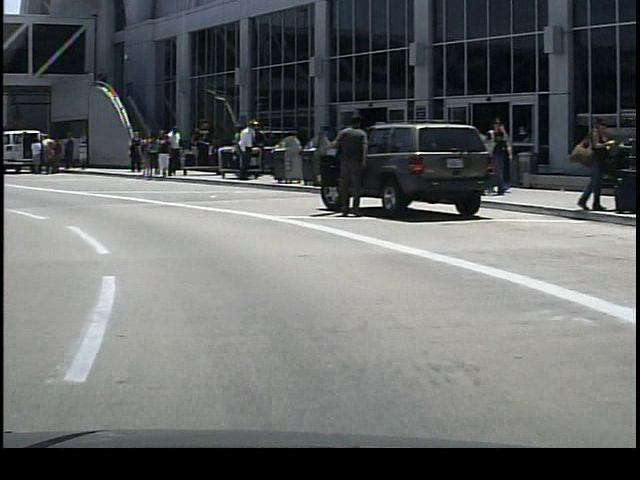person: (322, 110, 369, 219), (566, 113, 608, 215), (603, 111, 640, 208), (481, 111, 517, 203), (232, 118, 259, 183), (151, 130, 173, 180), (59, 129, 80, 176), (164, 123, 181, 179), (123, 129, 143, 174), (39, 132, 57, 177), (27, 137, 46, 177)
